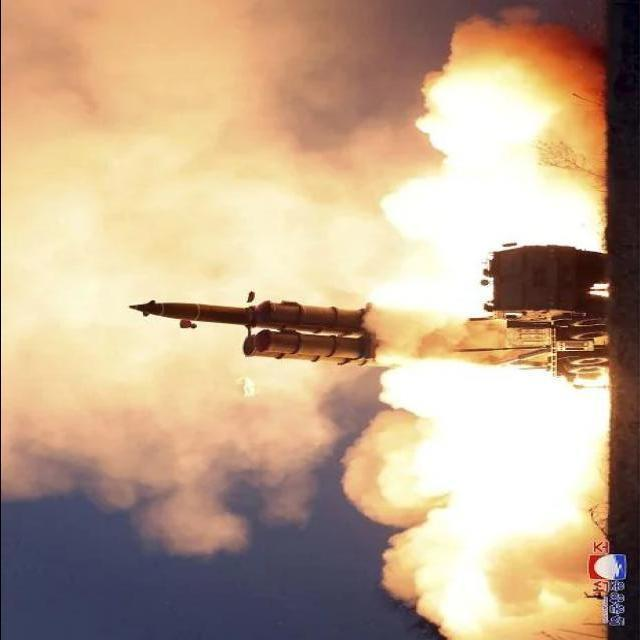Missile: (128, 292, 269, 332)
